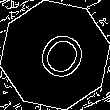O_SW: (23, 22, 87, 88)
